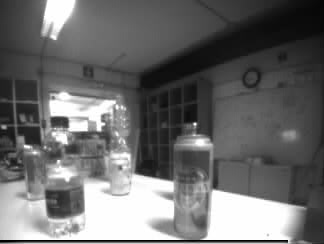Bottle: (45, 118, 83, 233), (107, 95, 132, 155)
Tin can: (173, 136, 211, 239), (25, 150, 44, 199), (108, 158, 131, 194)
